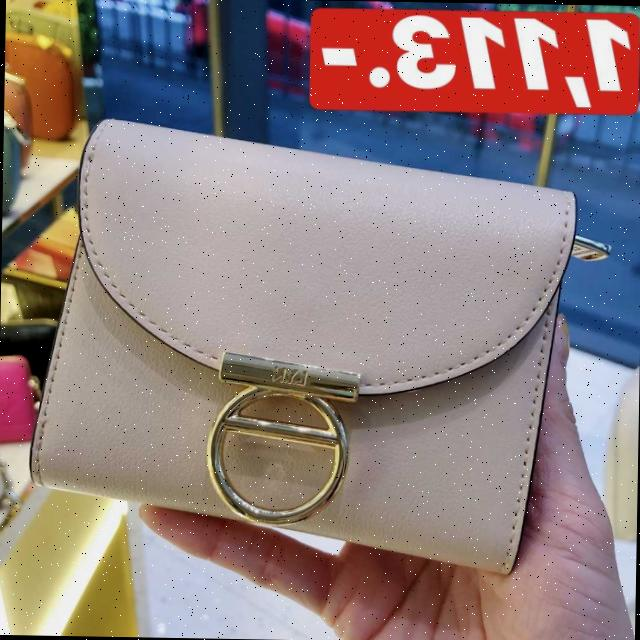handbag: (27, 116, 599, 580)
